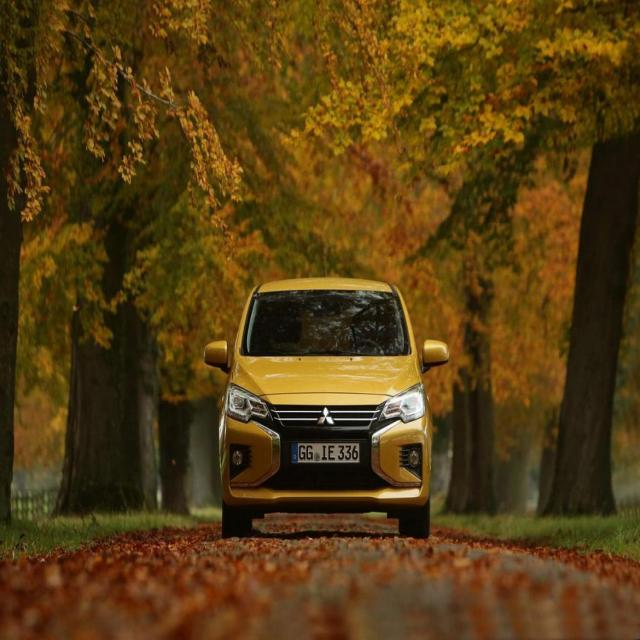yolov7-seg-car: (205, 257, 450, 538)
